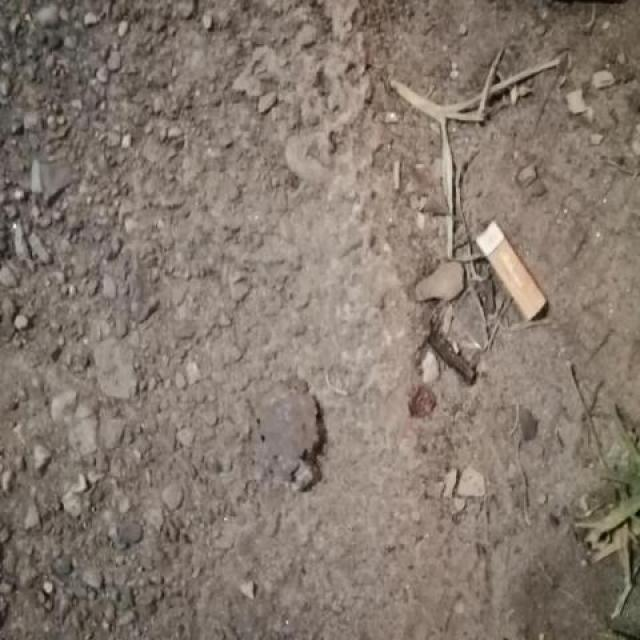non-organic waste: (469, 215, 552, 325)
